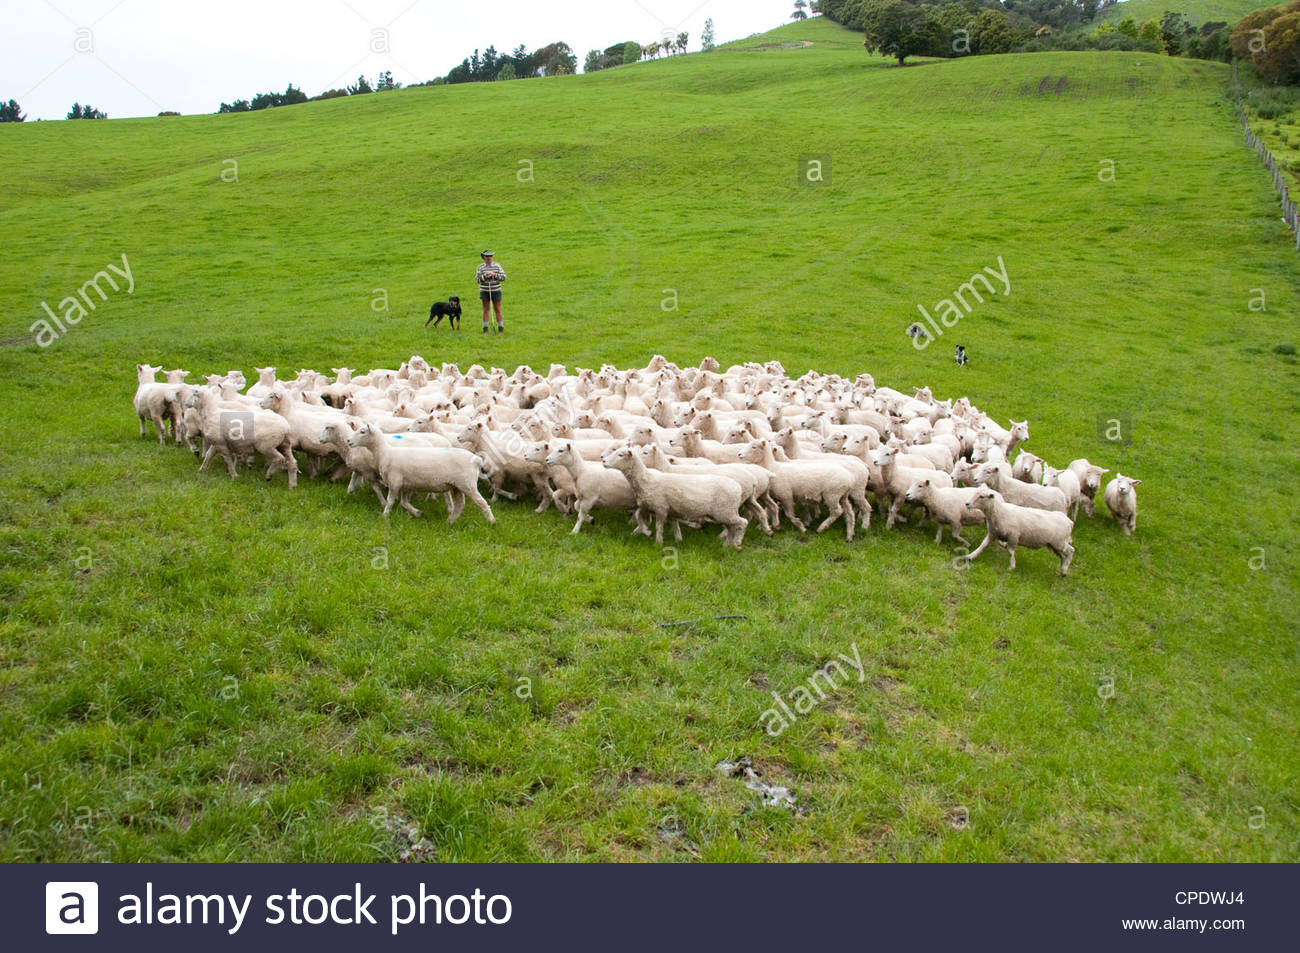sheep: (599, 446, 747, 555), (348, 423, 498, 528), (630, 445, 772, 536), (738, 438, 859, 543), (318, 418, 451, 509), (183, 384, 299, 485), (967, 482, 1076, 577), (546, 445, 657, 535), (260, 388, 353, 486), (457, 421, 555, 508), (975, 460, 1073, 542), (670, 426, 762, 512), (525, 437, 618, 516), (874, 444, 954, 533), (908, 479, 1007, 545), (954, 457, 1030, 529), (822, 430, 889, 498), (132, 361, 182, 447), (691, 411, 751, 465), (975, 418, 1034, 469), (798, 384, 846, 446), (629, 421, 687, 467), (1106, 469, 1140, 535), (1069, 459, 1109, 513), (572, 413, 627, 452), (915, 428, 963, 472)
